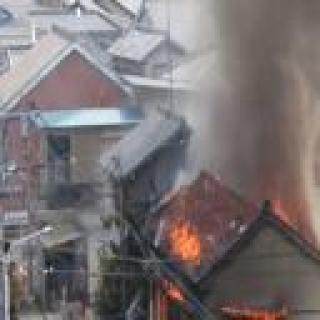fire: (146, 217, 308, 320)
